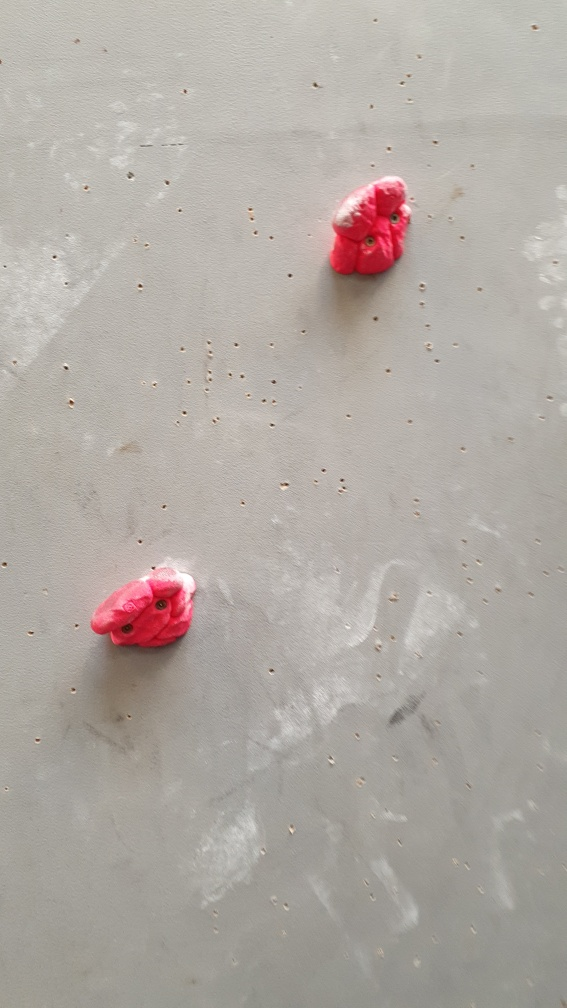Jug: (91, 563, 197, 654), (325, 173, 417, 276)
